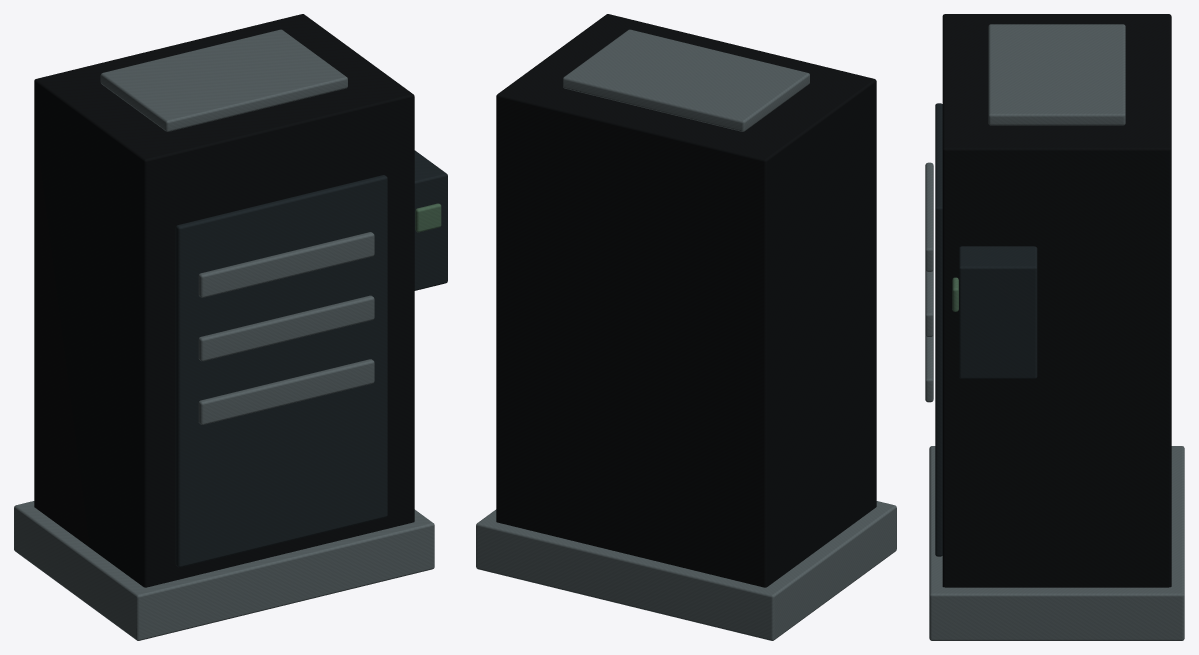
Rendered from AirScrubber.fbx.
The picture shows the model from 3 angles, left to right: view 1: azimuth 30°, elevation 25°; view 2: azimuth 150°, elevation 25°; view 3: azimuth 270°, elevation 25°; orthographic projection. The views are drawn at different scales.
Parts seen in each view (by area): view 1: AirScrubber_Mesh; view 2: AirScrubber_Mesh; view 3: AirScrubber_Mesh.
Boxes of the visible parts, box(x1,y1,x2,y2) form: AirScrubber_Mesh: box(14, 14, 447, 640); AirScrubber_Mesh: box(476, 14, 896, 640); AirScrubber_Mesh: box(925, 14, 1184, 640).
Bounding box in the file's own units: 118 × 168 × 79.25.
4 materials, 4 textured.
